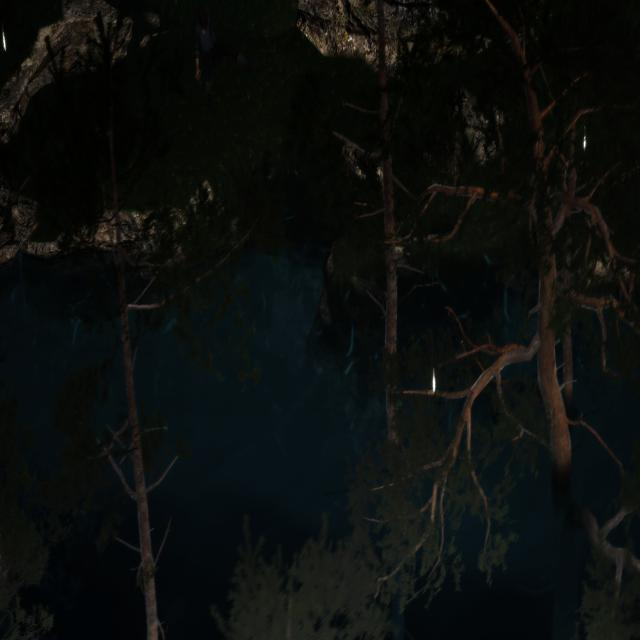Human: (190, 5, 258, 102)
